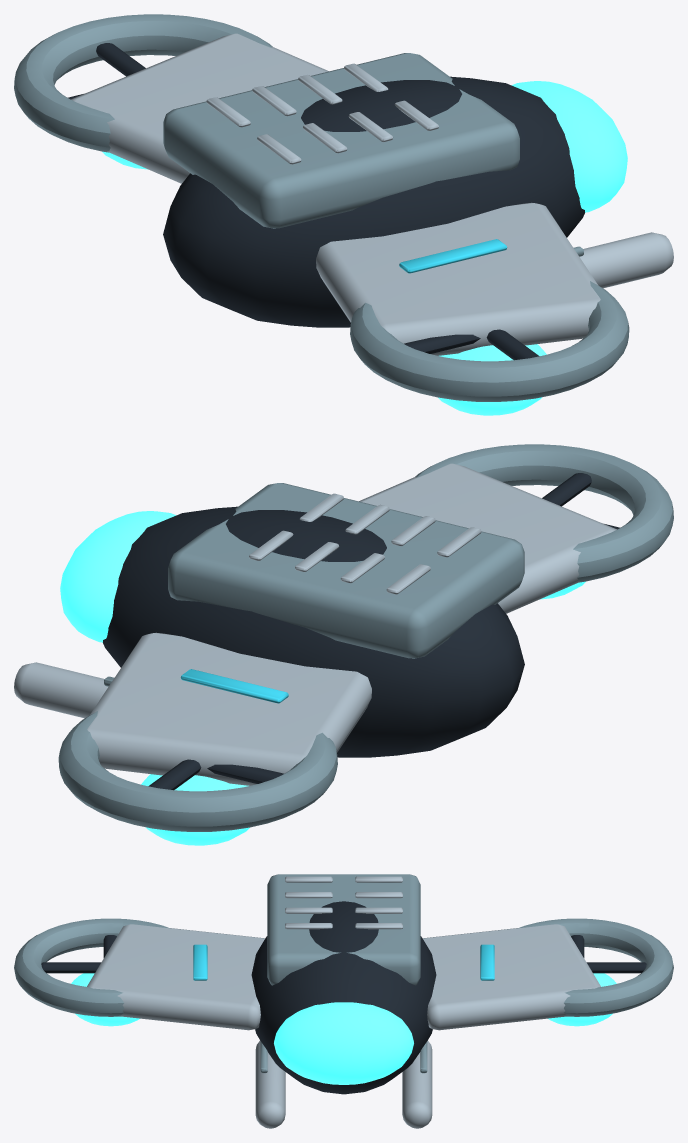
File: wasp.glb
3 views of the same model, one above another, from view 1: azimuth 30°, elevation 25°; view 2: azimuth 150°, elevation 25°; view 3: azimuth 270°, elevation 25° (orthographic). The views are drawn at different scales.
Visible parts, largest first — view 1: Sensor carapace, Top shell, Swept pylon, Ducted fan, Swept pylon.001, Ducted fan.001, Forward optic, Twin pulse barrel, Ion thruster, REFIT wasp pylon marking.001, Fan blade, Fan blade.003 (+1 smaller); view 2: Sensor carapace, Top shell, Swept pylon.001, Ducted fan.001, Swept pylon, Ducted fan, Forward optic, Twin pulse barrel.001, Ion thruster.001, REFIT wasp pylon marking, Fan blade.002, Fan blade.001 (+1 smaller); view 3: Swept pylon, Swept pylon.001, Sensor carapace, Top shell, Forward optic, Ducted fan.001, Ducted fan, Twin pulse barrel, Twin pulse barrel.001, Ion thruster, Ion thruster.001, Fan blade.003 (+3 smaller).
Part boxes in pixels (bbox=[...]): Sensor carapace: bbox=[163, 76, 584, 327]; Top shell: bbox=[163, 53, 519, 228]; Swept pylon: bbox=[316, 202, 600, 355]; Ducted fan: bbox=[350, 281, 629, 401]; Swept pylon.001: bbox=[71, 33, 328, 183]; Ducted fan.001: bbox=[14, 14, 272, 152]; Forward optic: bbox=[512, 81, 627, 212]; Twin pulse barrel: bbox=[579, 232, 673, 288]; Ion thruster: bbox=[438, 344, 546, 415]; REFIT wasp pylon marking.001: bbox=[399, 239, 507, 273]; Fan blade: bbox=[404, 334, 480, 353]; Fan blade.003: bbox=[96, 43, 145, 76]; Sensor carapace: bbox=[103, 506, 524, 757]; Top shell: bbox=[168, 483, 524, 658]; Swept pylon.001: bbox=[87, 632, 371, 785]; Ducted fan.001: bbox=[58, 711, 337, 831]; Swept pylon: bbox=[359, 463, 616, 613]; Ducted fan: bbox=[415, 444, 673, 582]; Forward optic: bbox=[60, 511, 175, 642]; Twin pulse barrel.001: bbox=[14, 662, 108, 718]; Ion thruster.001: bbox=[141, 774, 249, 845]; REFIT wasp pylon marking: bbox=[180, 669, 288, 703]; Fan blade.002: bbox=[207, 764, 283, 783]; Fan blade.001: bbox=[542, 473, 591, 506]; Swept pylon: bbox=[87, 924, 264, 1030]; Swept pylon.001: bbox=[423, 924, 600, 1030]; Sensor carapace: bbox=[251, 901, 436, 1094]; Top shell: bbox=[267, 874, 420, 985]; Forward optic: bbox=[274, 1002, 413, 1084]; Ducted fan.001: bbox=[518, 918, 673, 1016]; Ducted fan: bbox=[14, 918, 169, 1016]; Twin pulse barrel: bbox=[255, 1040, 285, 1128]; Twin pulse barrel.001: bbox=[402, 1040, 432, 1128]; Ion thruster: bbox=[71, 973, 139, 1026]; Ion thruster.001: bbox=[548, 973, 616, 1026]; Fan blade.003: bbox=[586, 962, 646, 973].
Bounding box in the file's own units: 1.11 × 0.501 × 2.07.
